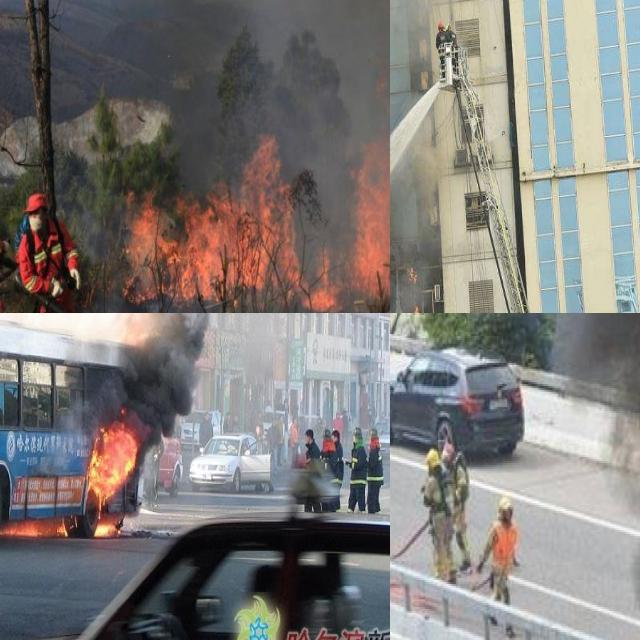fire: (123, 129, 343, 313), (81, 420, 151, 539)
smoke: (161, 0, 390, 183), (0, 313, 330, 410), (543, 313, 640, 640), (406, 125, 436, 196)
